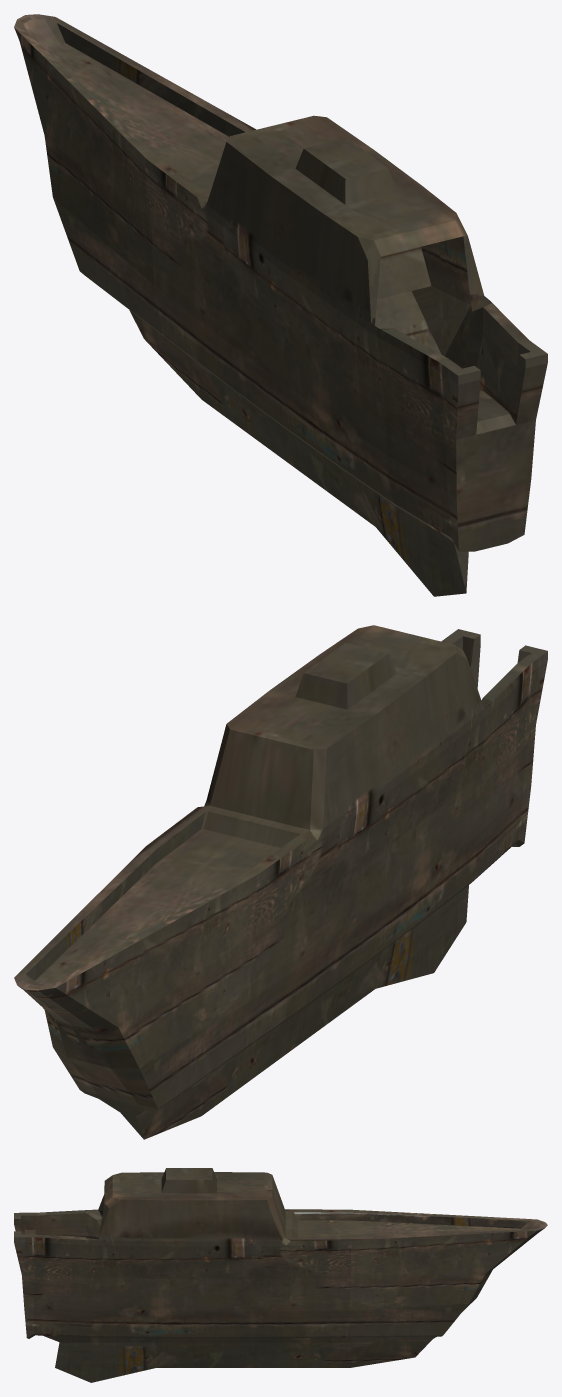
Rendered from Big_ship.fbx.
3 renders of one model, top to bottom at view 1: azimuth 30°, elevation 25°; view 2: azimuth 150°, elevation 25°; view 3: azimuth 270°, elevation 25°, orthographic. The views are drawn at different scales.
Visible parts, largest first — view 1: Cube; view 2: Cube; view 3: Cube.
Boxes of the visible parts, x1,y1,x2,y2 form: Cube: (14, 14, 547, 596); Cube: (14, 625, 547, 1139); Cube: (14, 1168, 547, 1382).
Bounding box in the file's own units: 2728 × 8064 × 18673.
